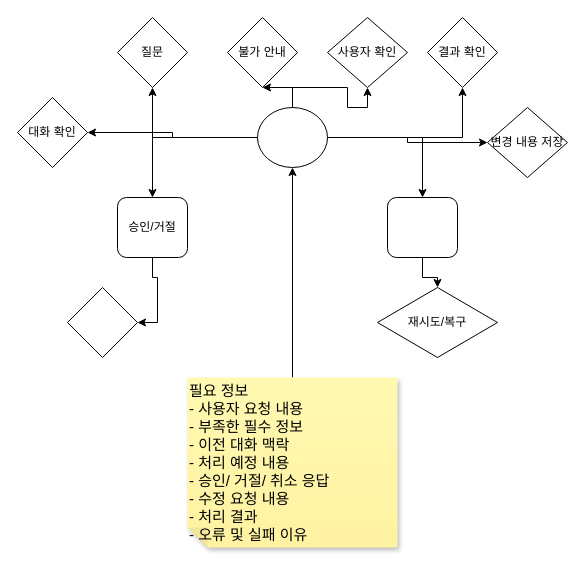
This 585x572 diagram has some shape labels left out. The shapes that lost their labels are listed below. From the top down, each one's centre as x and y in pixels, then its label:
(292,137): 공통
(422,227): 오류
(102,322): 중간 취소
